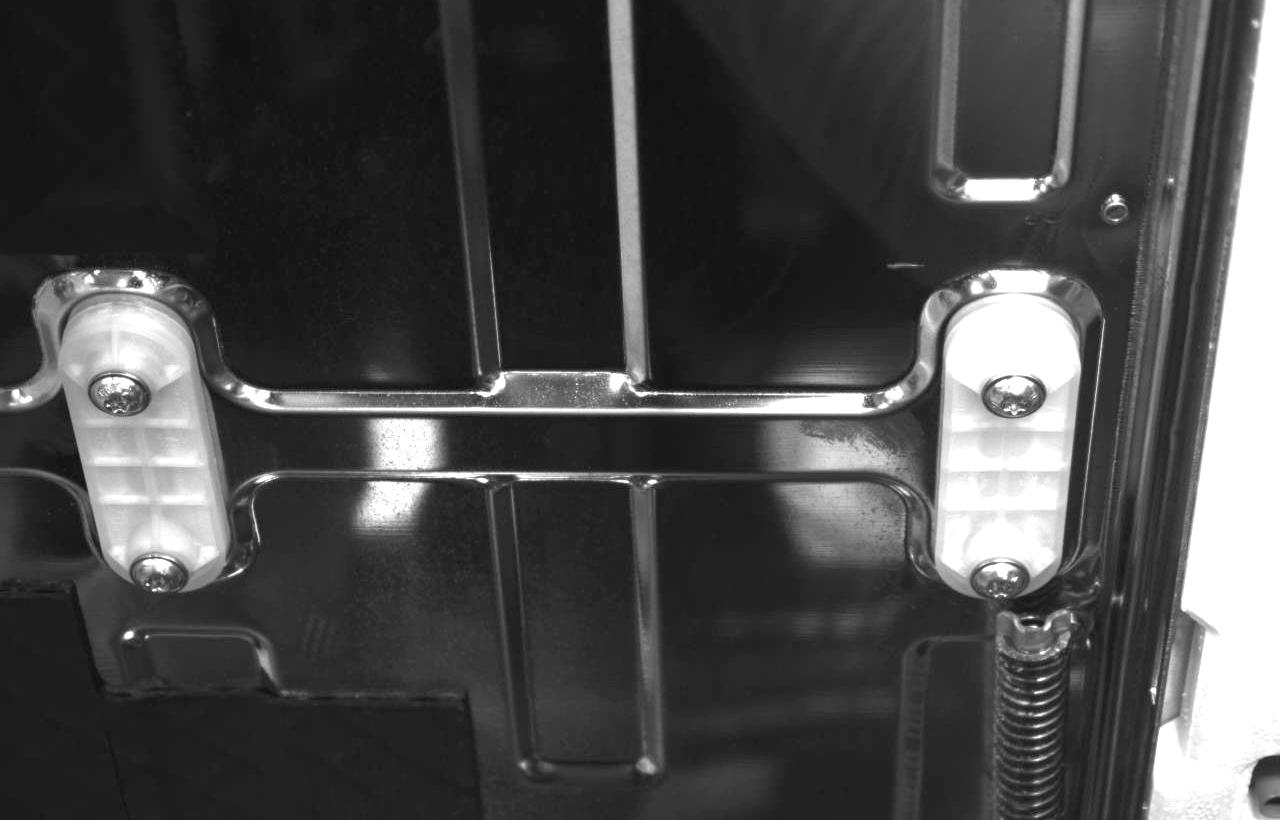vida-ok: (84, 361, 156, 428), (981, 367, 1049, 434), (130, 545, 196, 604), (969, 552, 1034, 611)
